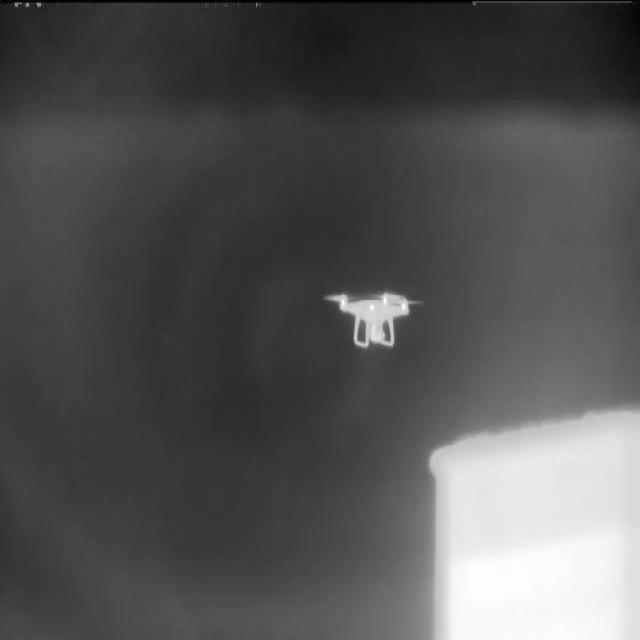DRONE: (320, 287, 431, 348)
